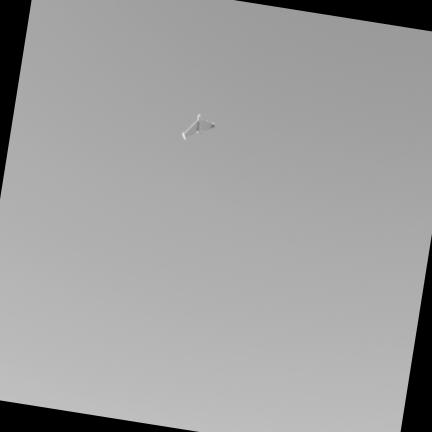Shahed: (183, 115, 214, 139)
